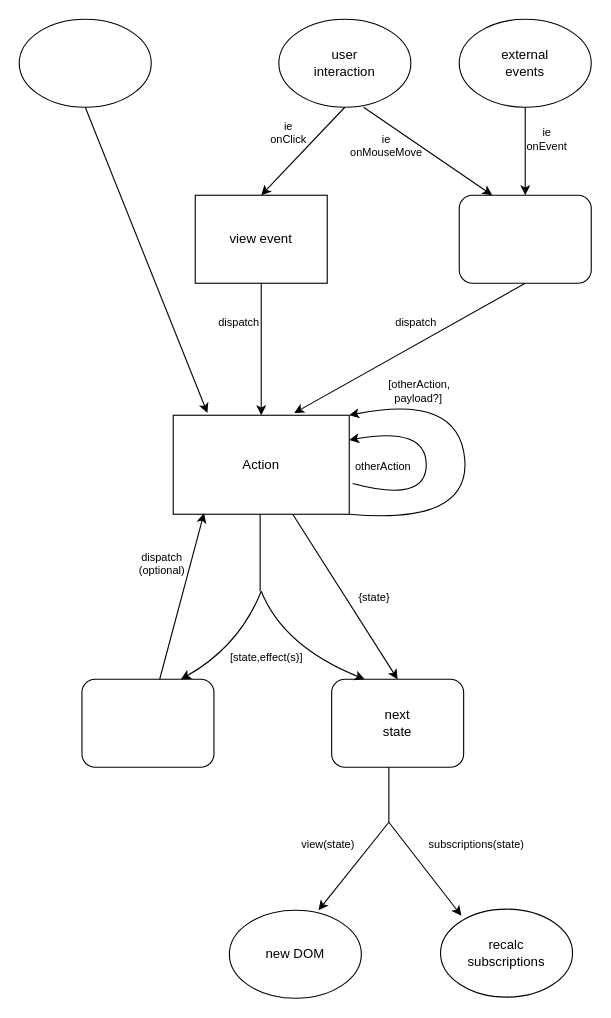
The diagram is 611 pixels wide and 1018 high, and some of its shapes have lost their labels. Each missing label, with the centre of its shape:
"effect" belongs at pixel 147 722.
"init" belongs at pixel 84 62.
"subscription" belongs at pixel 524 238.
